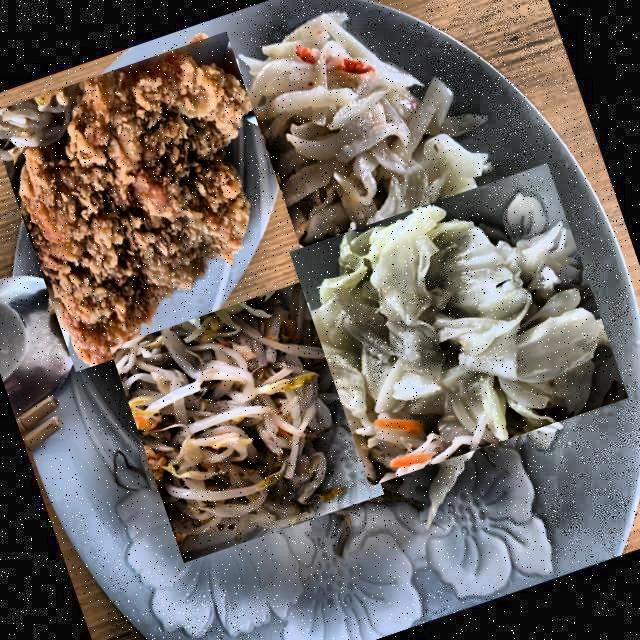Food: (293, 158, 625, 490), (0, 30, 316, 372), (107, 281, 387, 561)
